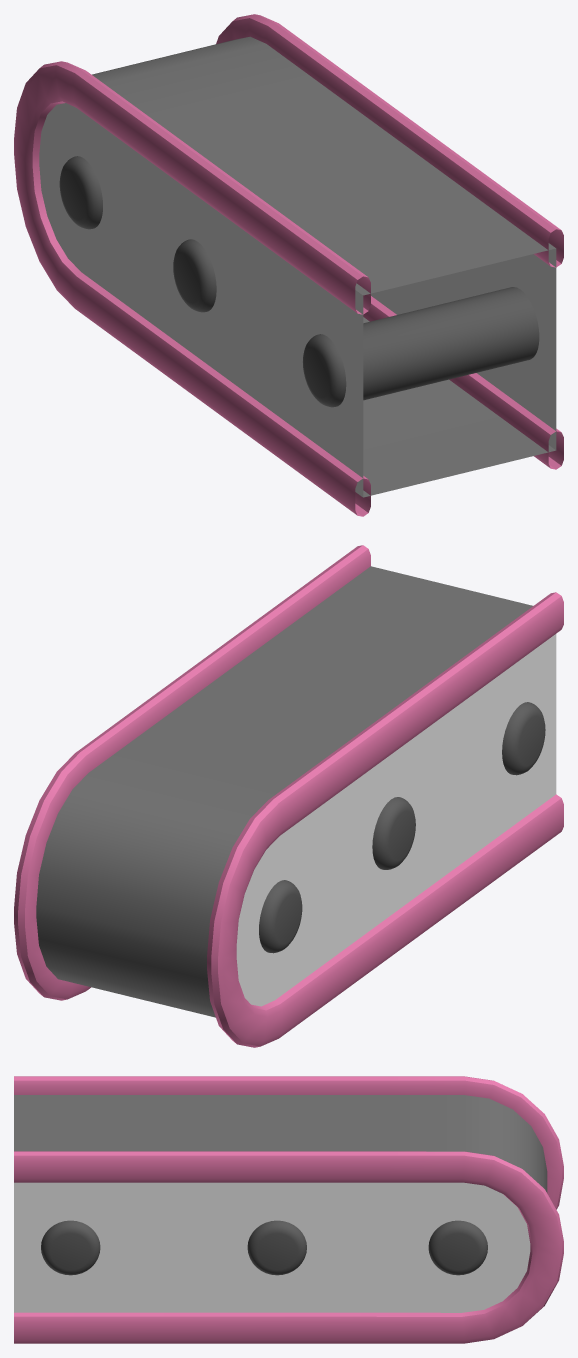
File: parca1.fbx
3 renders of one model, top to bottom at view 1: azimuth 30°, elevation 25°; view 2: azimuth 150°, elevation 25°; view 3: azimuth 270°, elevation 25°, orthographic. The views are drawn at different scales.
Visible parts, largest first — view 1: 1; view 2: 1; view 3: 1.
Boxes of the visible parts, left/top/right/bottom form: 1: left=14, top=14, right=563, bottom=516; 1: left=14, top=545, right=563, bottom=1047; 1: left=14, top=1076, right=563, bottom=1343.
Bounding box in the file's own units: 2.22 × 2.38 × 6.19.
